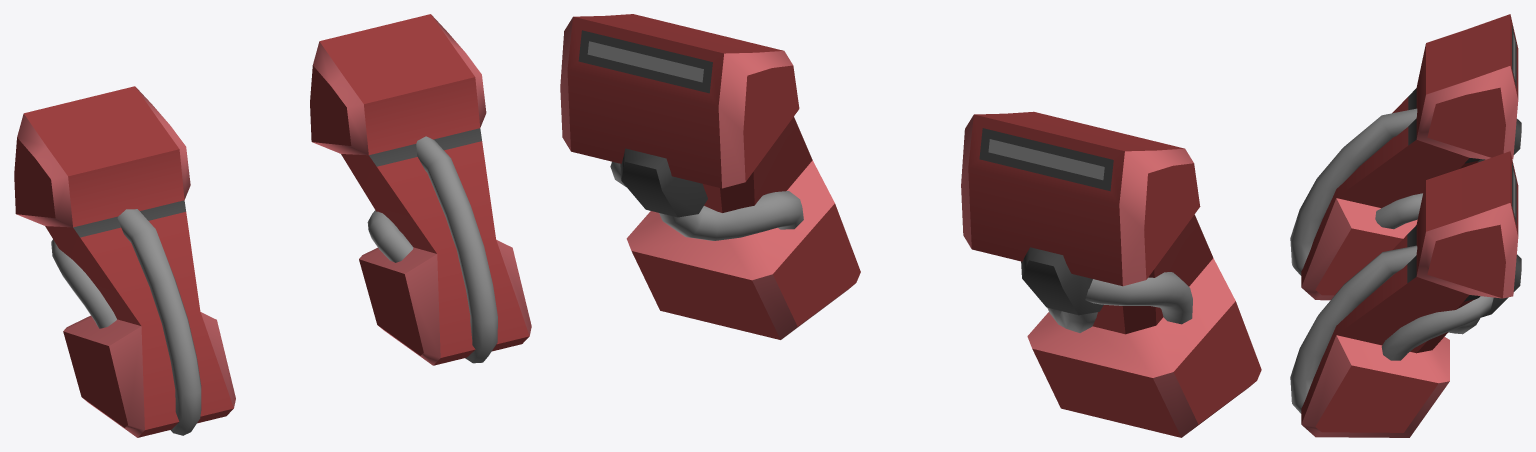
Rendered from Foot_2lvl.fbx.
3 views of the same model, side by side, from view 1: azimuth 30°, elevation 25°; view 2: azimuth 150°, elevation 25°; view 3: azimuth 270°, elevation 25° (orthographic). The views are drawn at different scales.
Visible parts, largest first — view 1: leg-3.R.004, leg-3.L.004; view 2: leg-3.L.004, leg-3.R.004; view 3: leg-3.L.004, leg-3.R.004.
Part boxes in pixels (bbox=[...]): leg-3.R.004: bbox=[14, 86, 235, 437]; leg-3.L.004: bbox=[310, 14, 531, 365]; leg-3.L.004: bbox=[560, 14, 860, 339]; leg-3.R.004: bbox=[961, 111, 1261, 437]; leg-3.L.004: bbox=[1290, 151, 1521, 437]; leg-3.R.004: bbox=[1290, 14, 1521, 300].
Bounding box in the file's own units: 68.84 × 39.42 × 33.7.
